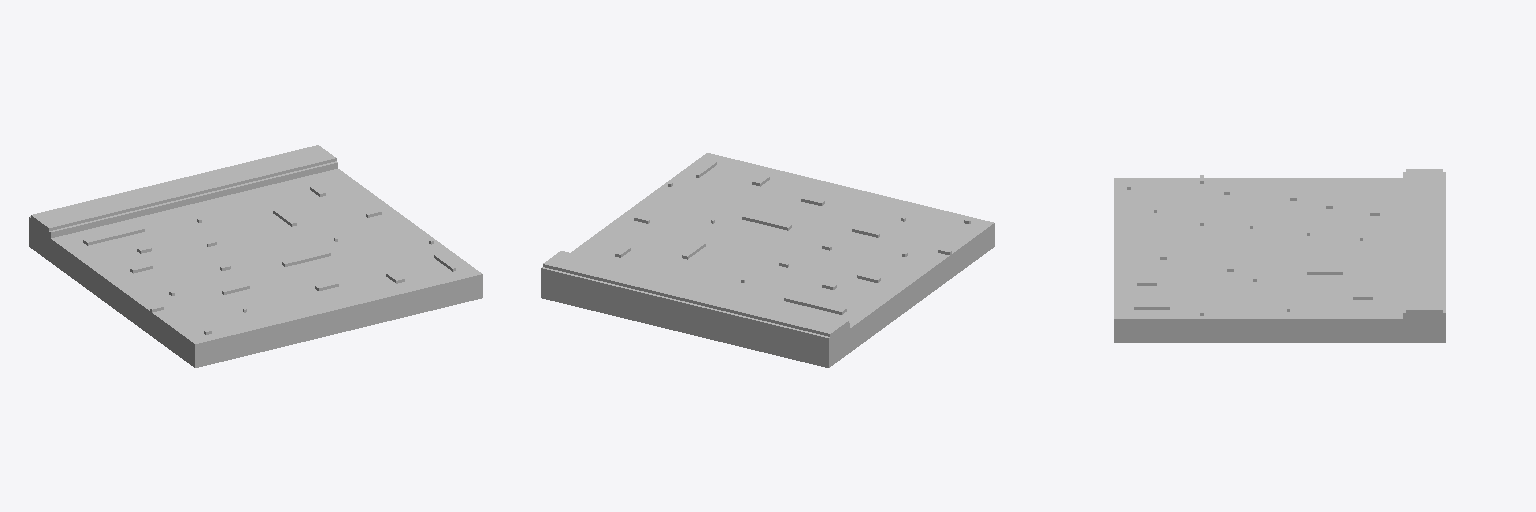
File: Grass_2.obj
3 renders of one model, left to right at view 1: azimuth 30°, elevation 25°; view 2: azimuth 150°, elevation 25°; view 3: azimuth 270°, elevation 25°, orthographic.
Visible parts, largest first — view 1: Grass_2; view 2: Grass_2; view 3: Grass_2.
Boxes of the visible parts, box(x1,y1,x2,y2) form: Grass_2: box(29, 145, 482, 367); Grass_2: box(541, 153, 994, 367); Grass_2: box(1114, 169, 1445, 342).
Size of the model in its own units: 100 by 11 by 100.